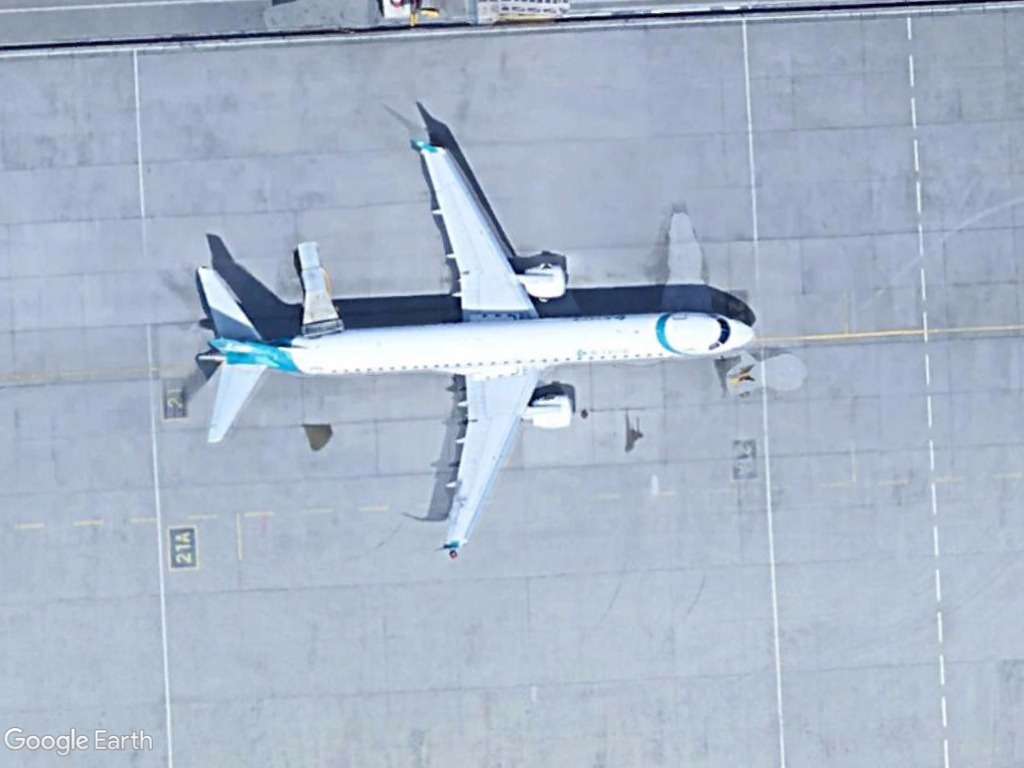airliner: (189, 136, 765, 558)
stairtruck: (286, 234, 349, 339)
